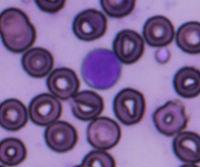L: (81, 47, 122, 90)
